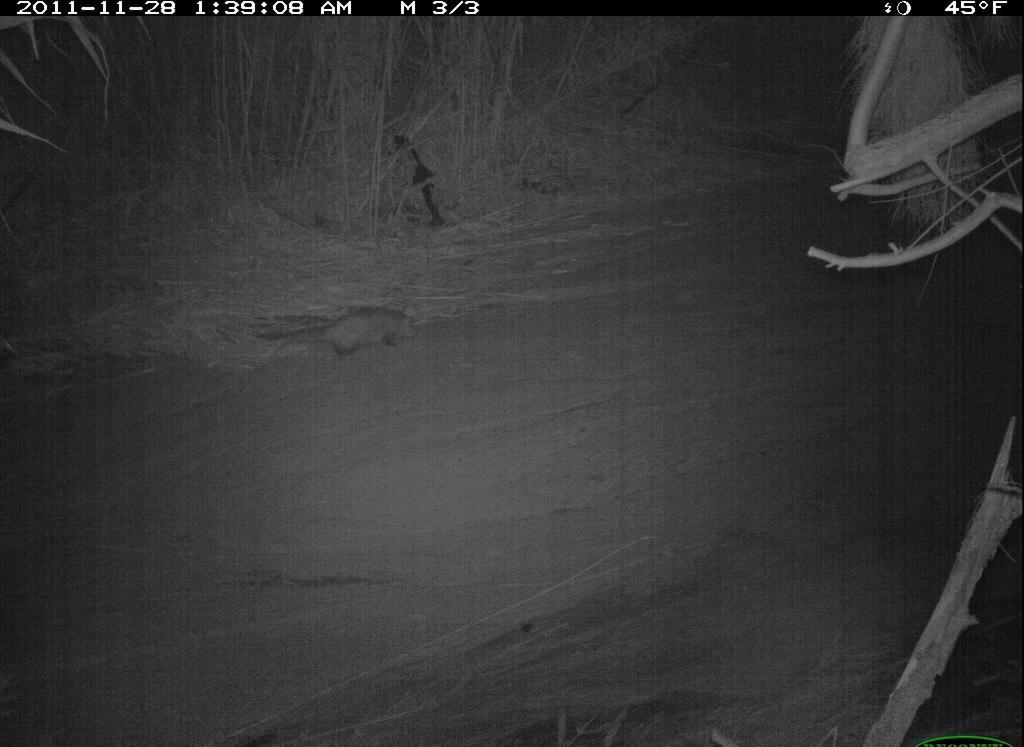opossum: (242, 286, 454, 386)
